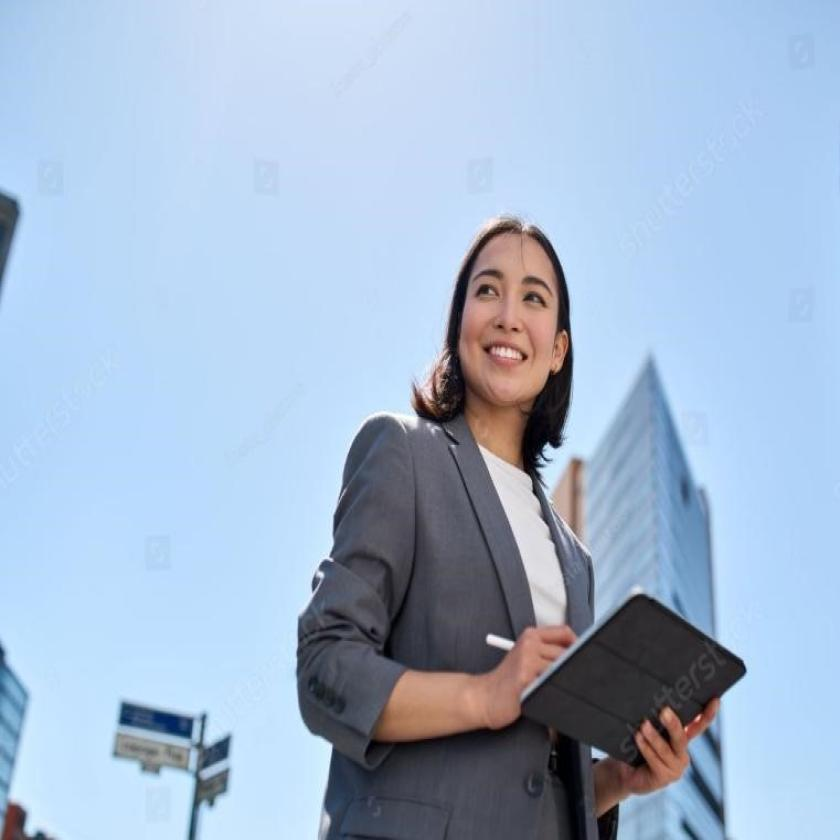Sin_casco: (432, 208, 584, 470)
